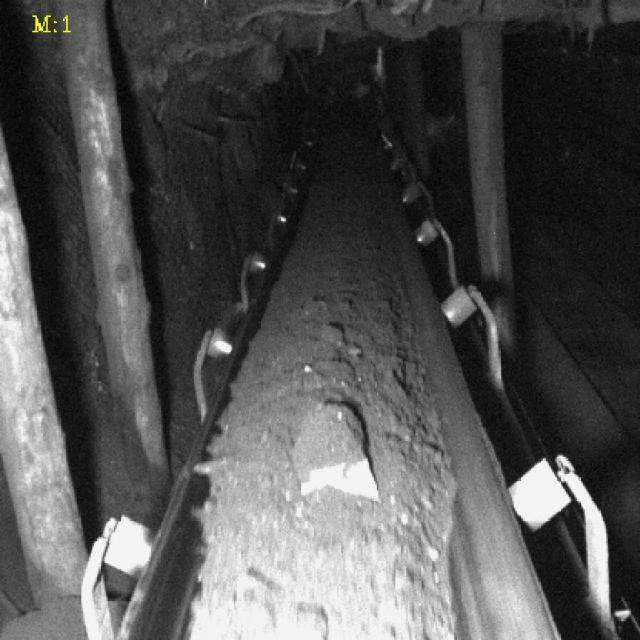large_sized_coal: (295, 405, 380, 497)
